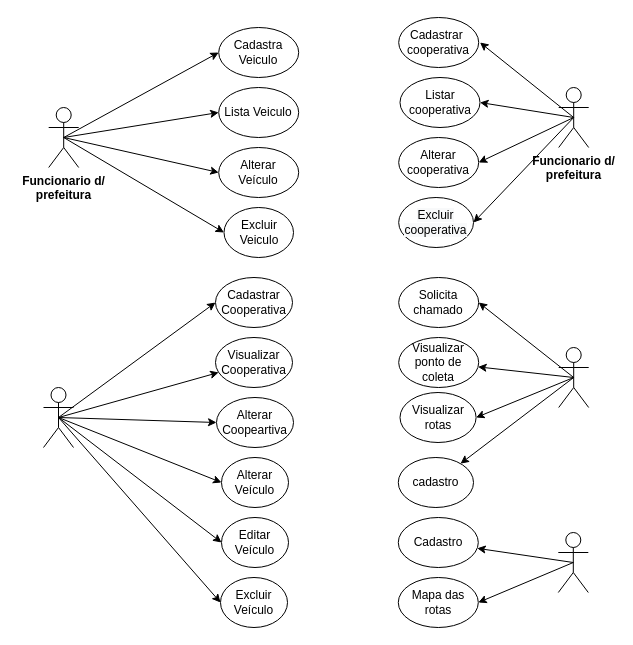
Some shapes in this 633 by 645 pixel diagram are drawn without their labels. The centre of each missing label's shape, as x and y in pixels:
App: point 572,562
Funcionario d/ cooperativa: point 58,417
Usuario comum: point 573,377
